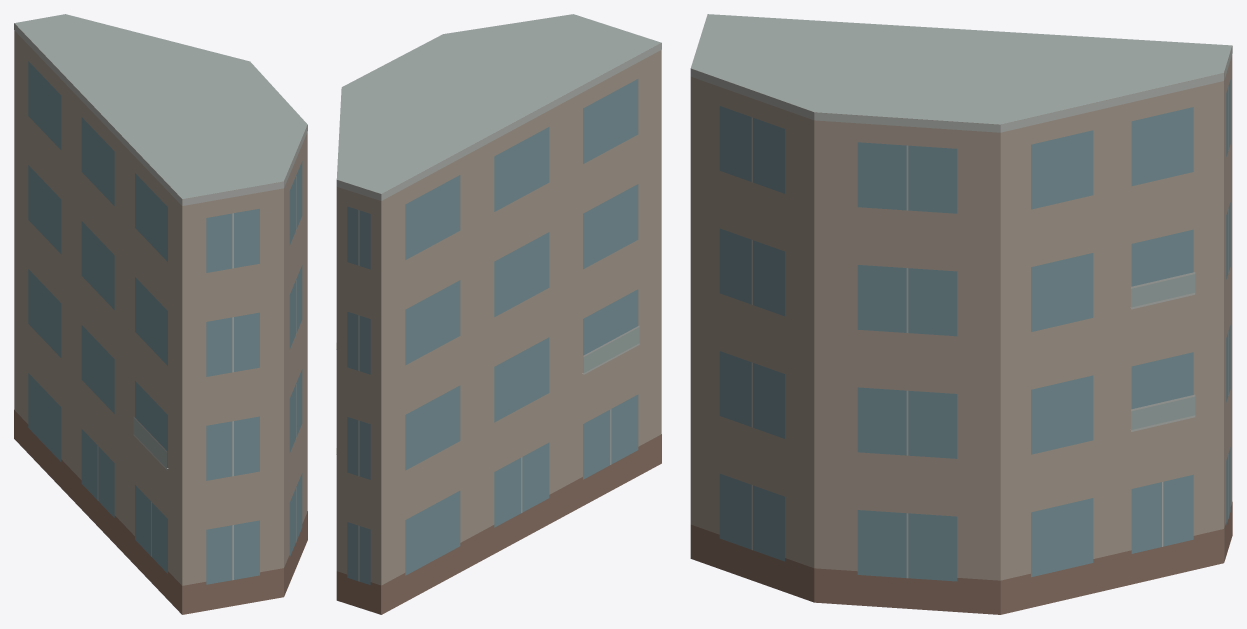
Rendered from survey-upis-33023518.glb.
The picture shows the model from 3 angles, left to right: view 1: azimuth 30°, elevation 25°; view 2: azimuth 150°, elevation 25°; view 3: azimuth 270°, elevation 25°; orthographic projection. The views are drawn at different scales.
Visible parts, largest first — view 1: survey-upis-33023518.tmp; view 2: survey-upis-33023518.tmp; view 3: survey-upis-33023518.tmp.
Boxes of the visible parts, box(x1,y1,x2,y2) form: survey-upis-33023518.tmp: box(14, 14, 307, 614); survey-upis-33023518.tmp: box(336, 14, 661, 614); survey-upis-33023518.tmp: box(690, 14, 1232, 614).
Bounding box in the file's own units: 7.12 × 14.7 × 14.73.
